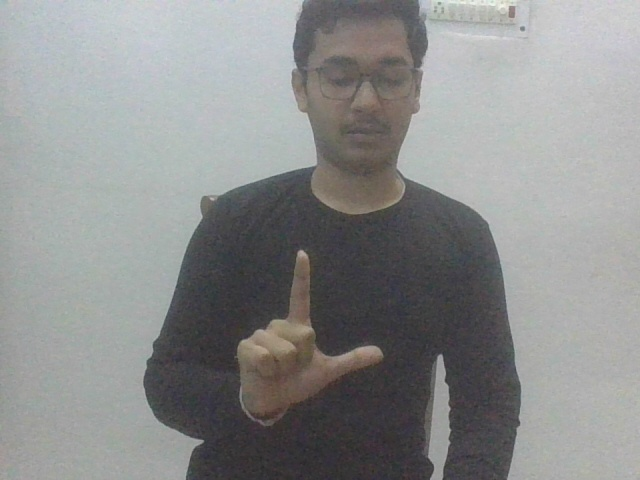L: (232, 246, 388, 428)
